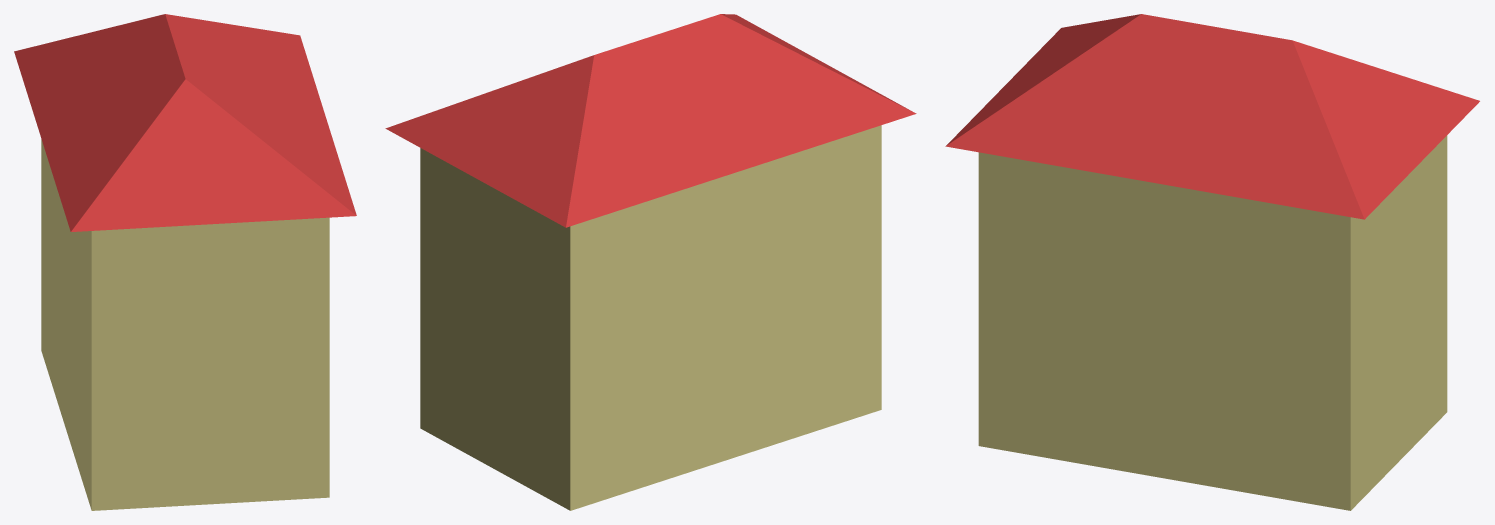
3 views of the same model, side by side, from view 1: azimuth 30°, elevation 25°; view 2: azimuth 150°, elevation 25°; view 3: azimuth 270°, elevation 25° (orthographic). The views are drawn at different scales.
Size of the model in its own units: 8.86 by 10.45 by 8.57.
